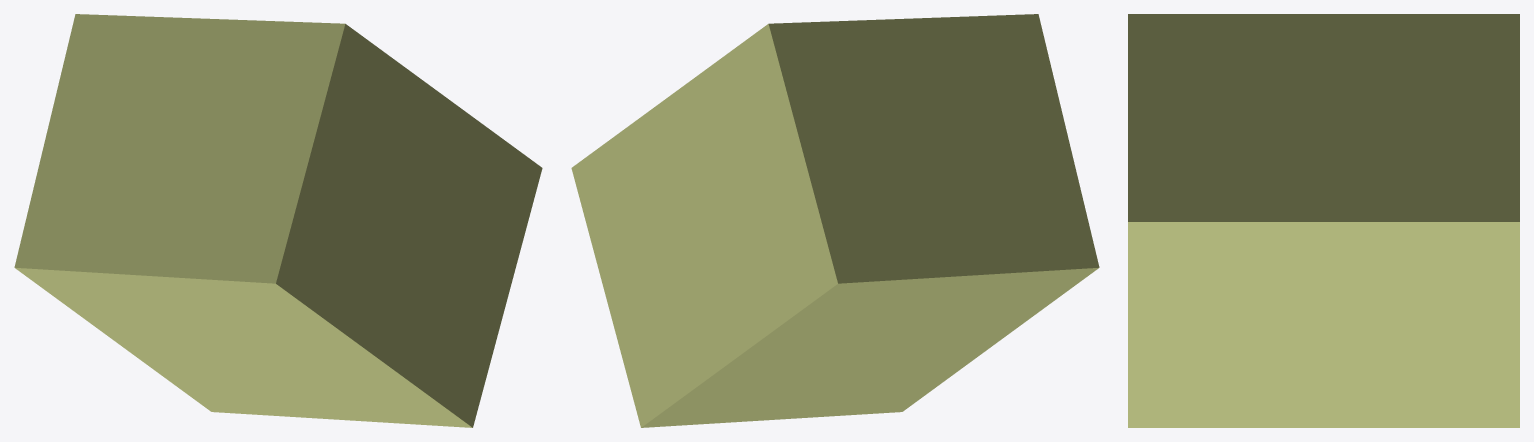
The picture shows the model from 3 angles, left to right: view 1: azimuth 30°, elevation 25°; view 2: azimuth 150°, elevation 25°; view 3: azimuth 270°, elevation 25°; orthographic projection.
Parts seen in each view (by area): view 1: 0_1_0_0_2_1_0_1_2_2_2; view 2: 0_1_0_0_2_1_0_1_2_2_2; view 3: 0_1_0_0_2_1_0_1_2_2_2.
Boxes of the visible parts, x1=… form: 0_1_0_0_2_1_0_1_2_2_2: x1=14, y1=14, x2=542, y2=427; 0_1_0_0_2_1_0_1_2_2_2: x1=571, y1=14, x2=1099, y2=427; 0_1_0_0_2_1_0_1_2_2_2: x1=1128, y1=14, x2=1519, y2=427.
Bounding box in the file's own units: 8.73 × 8.03 × 9.
